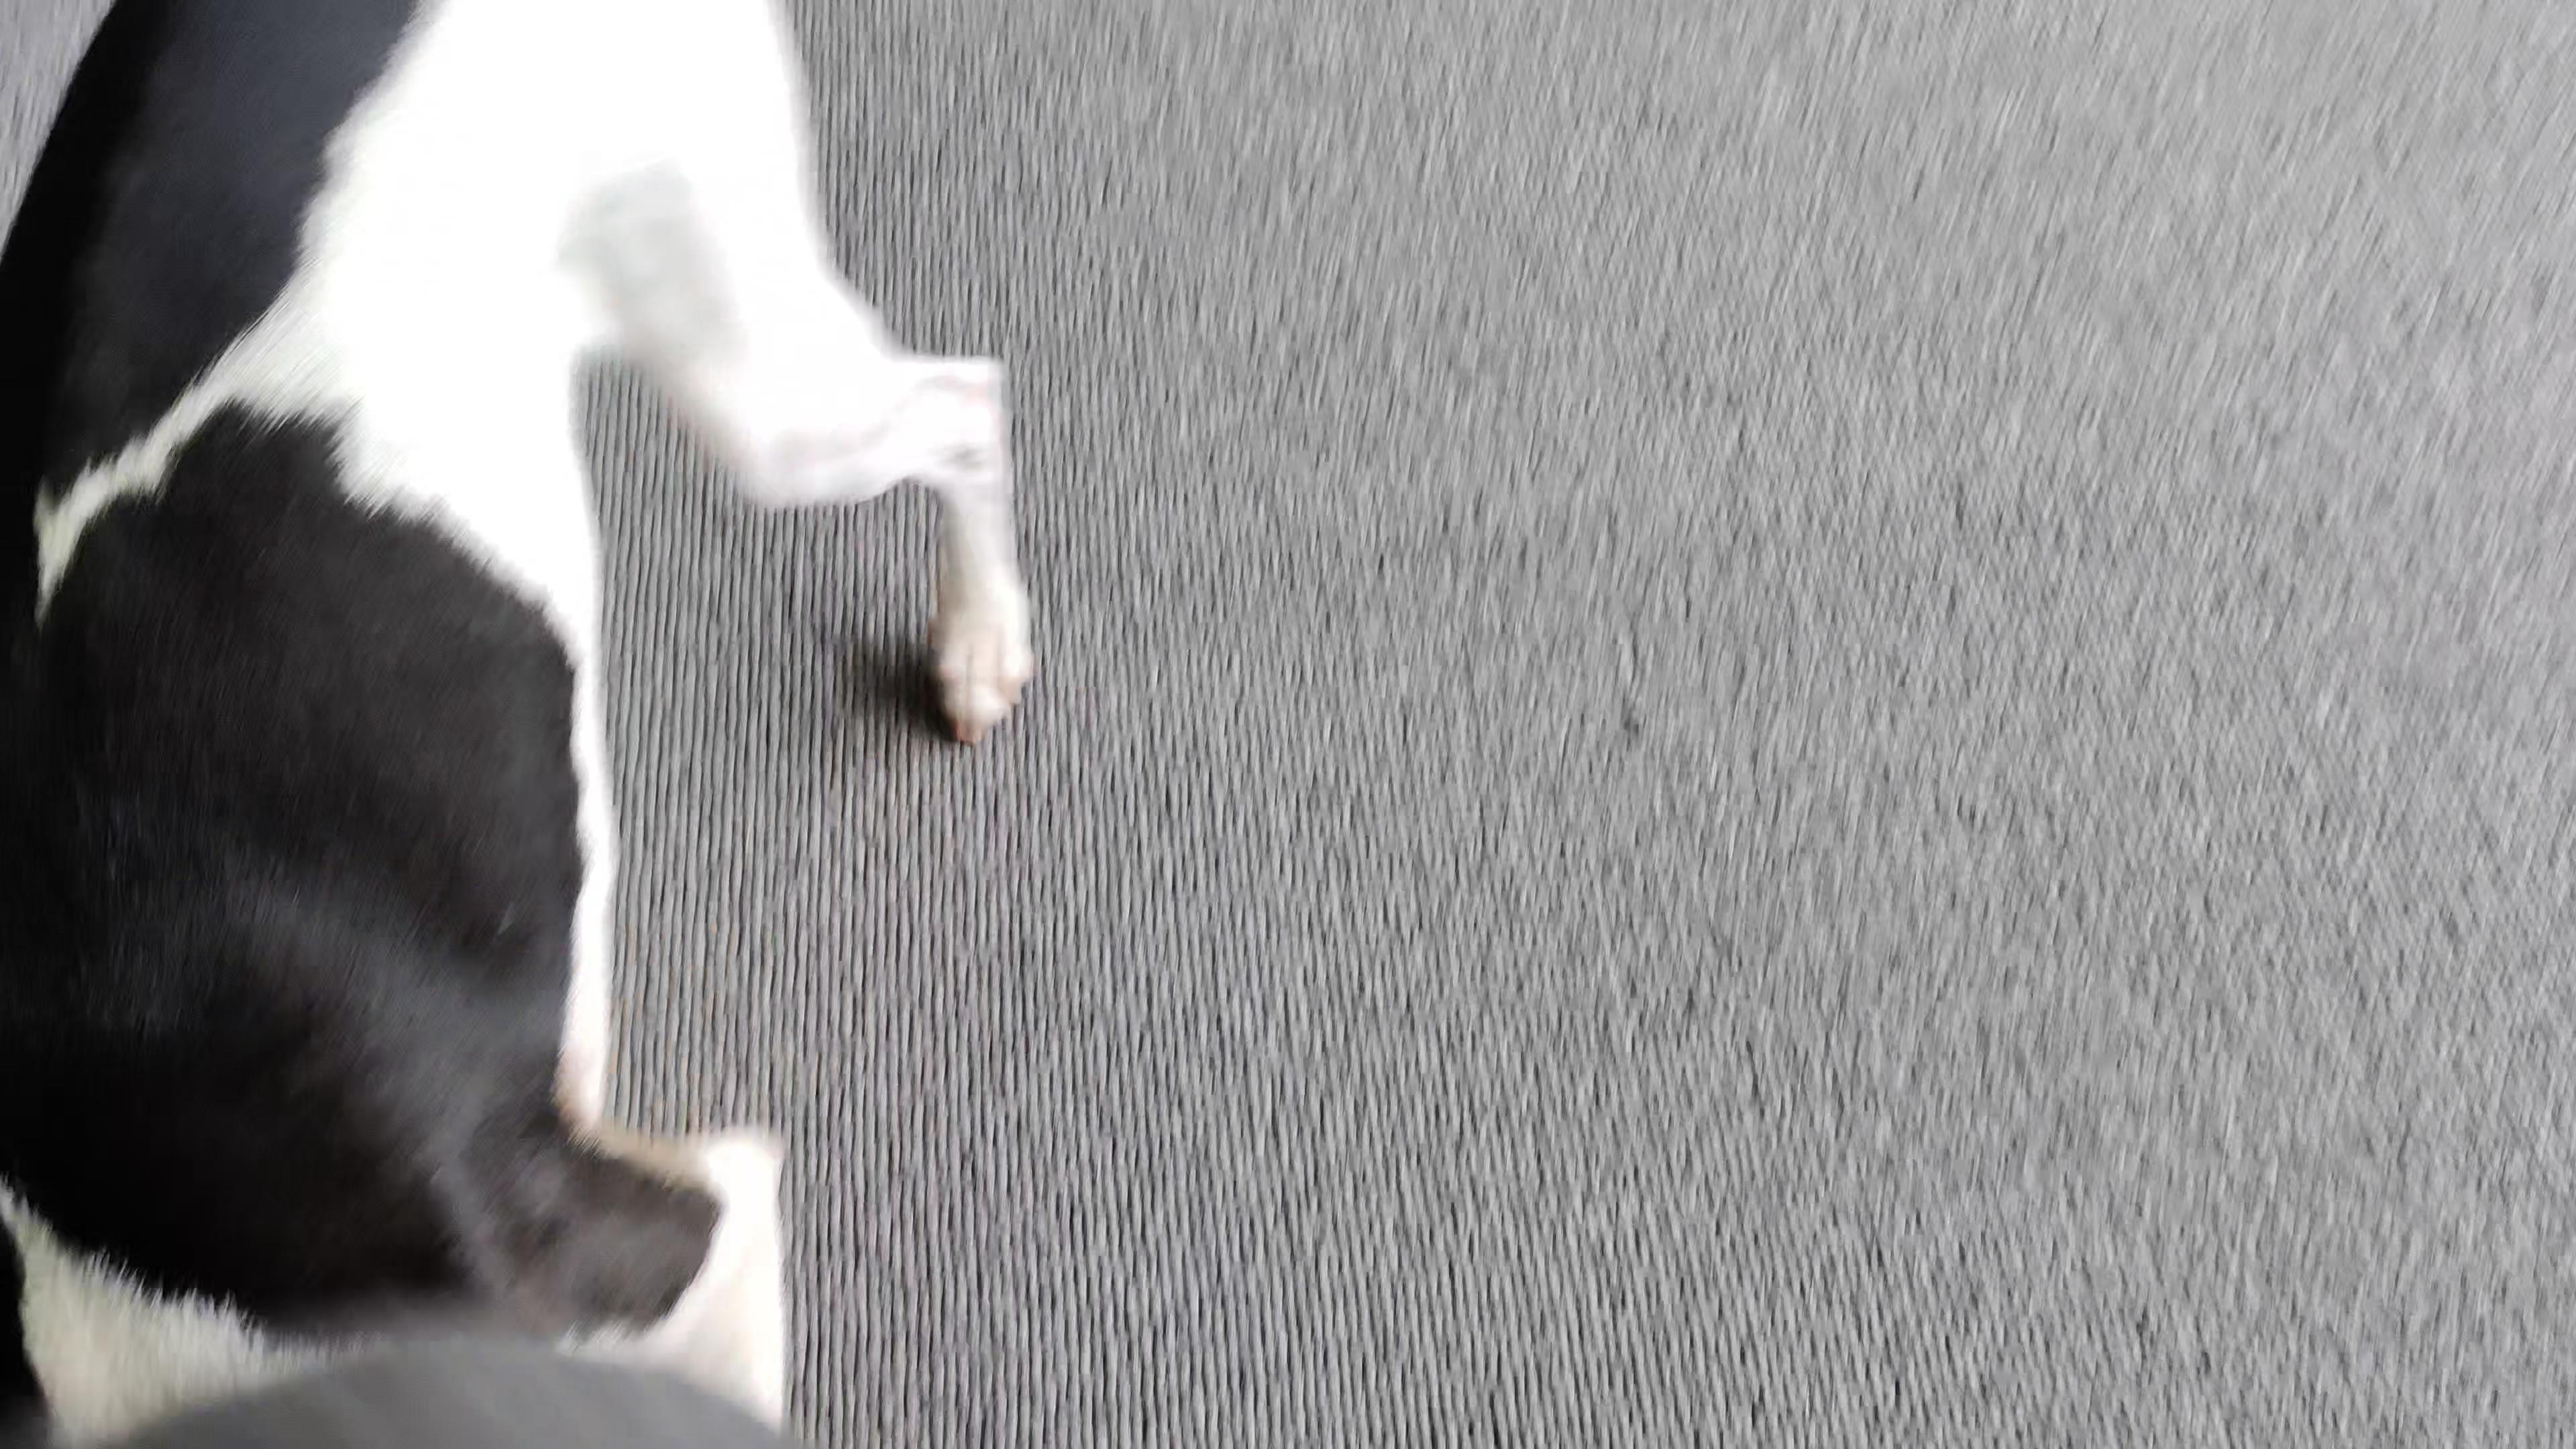Dog: (0, 0, 1039, 1449)
